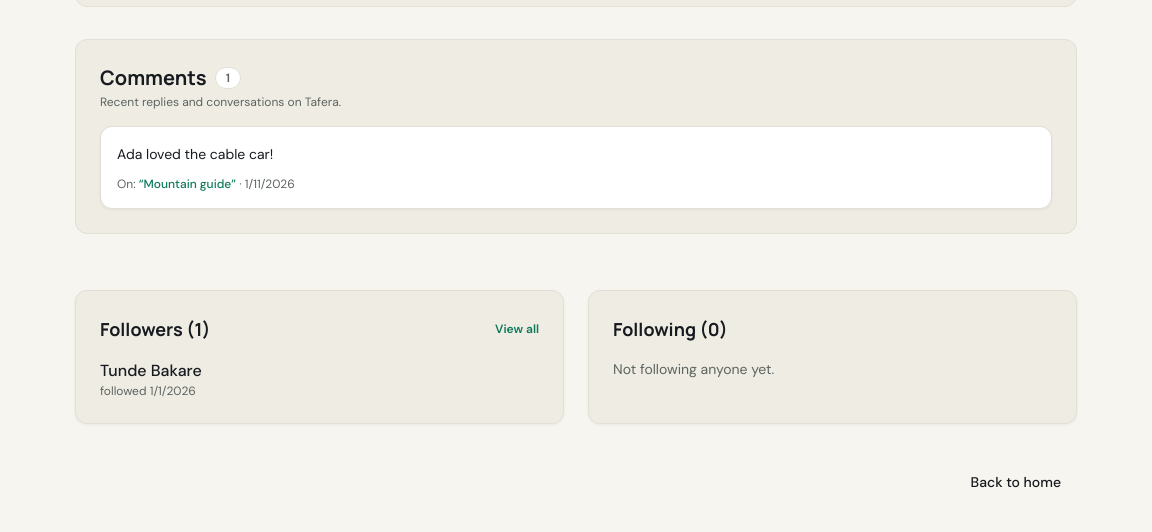
Test: PublicProfile automatic Posts, Media, and Comments loading › immediately displays Posts, Media, and Comments on open and refreshes all three when switching profiles
(page scrolled)
Expected: the text "Ada loved the cable car!" is shown, [117,145,273,163]
Note: Navigate to User 2 via the follower profile link
Click the link "Tunde Bakare". click: point(151, 370)
box: [100,360,202,380]
(page scrolled)
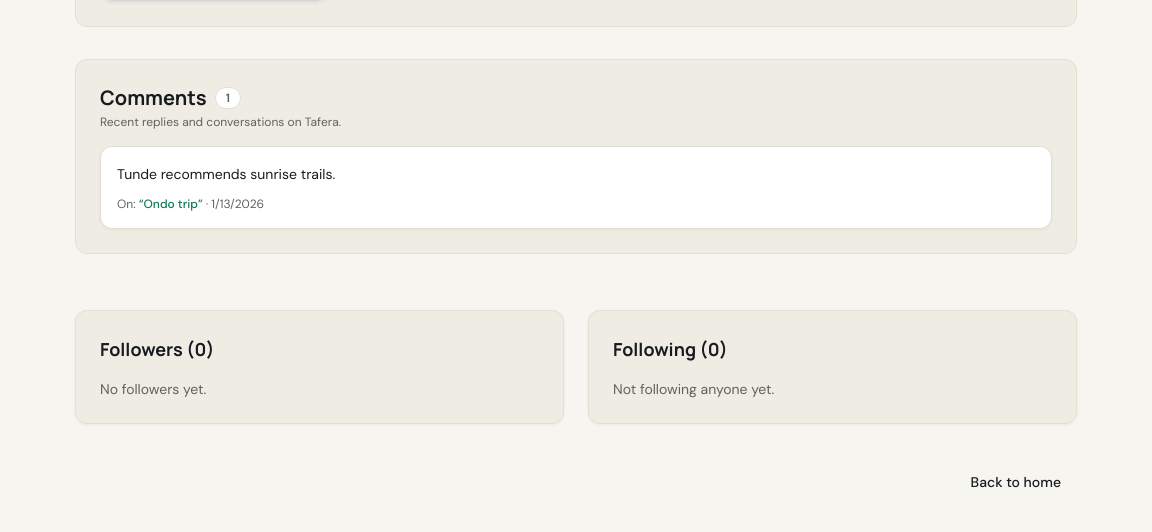
Now the text "Tunde recommends sunrise trails." is shown, box [117,165,335,183]
Now the text "Ada loved the cable car!" is gone
